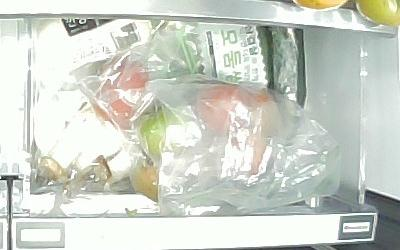tomato_vinyl: (93, 66, 150, 125), (138, 105, 196, 158), (200, 85, 253, 133), (129, 158, 175, 203)
